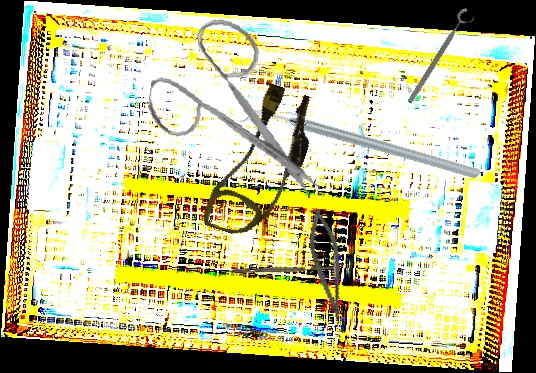Cannula: (200, 76, 325, 249)
Chopper: (240, 31, 483, 260), (217, 265, 335, 279)
Fixation Ring: (404, 6, 478, 109)
Iris Scissors: (139, 10, 339, 202)
Micro Scissor: (300, 205, 356, 324)
